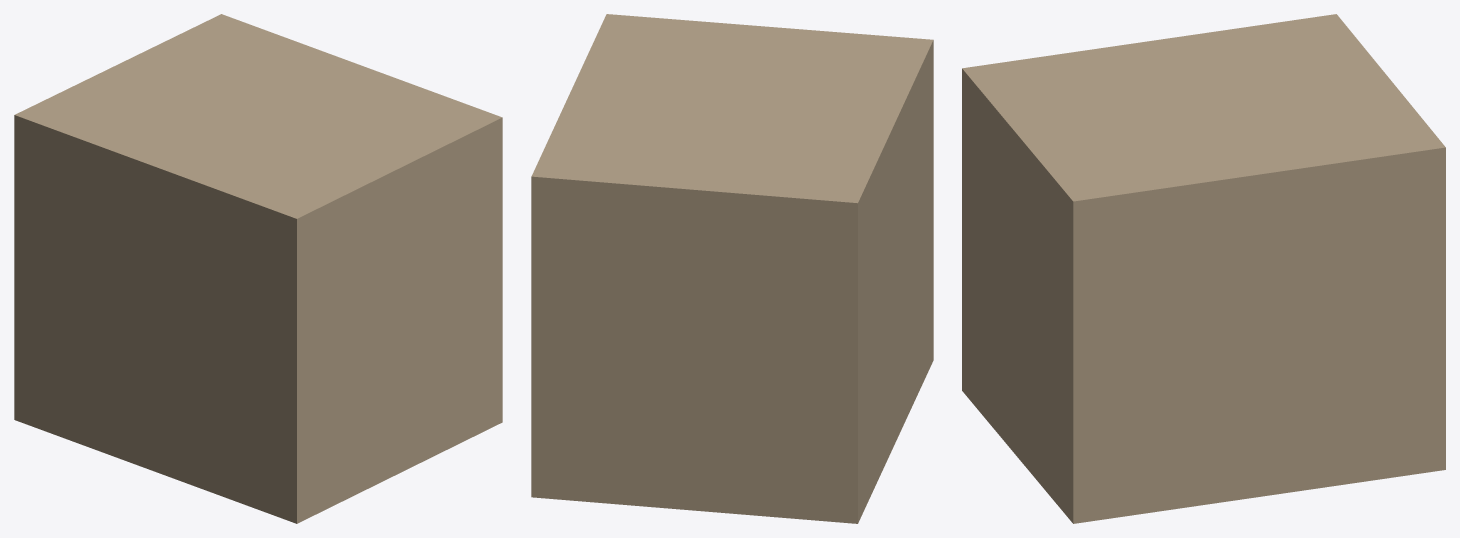
The model's file is bld_100469548.dae.
3 renders of one model, left to right at view 1: azimuth 30°, elevation 25°; view 2: azimuth 150°, elevation 25°; view 3: azimuth 270°, elevation 25°, orthographic. The views are drawn at different scales.
Visible parts, largest first — view 1: bld_100469548; view 2: bld_100469548; view 3: bld_100469548.
Boxes of the visible parts, x1=… form: bld_100469548: x1=14, y1=14, x2=502, y2=523; bld_100469548: x1=531, y1=14, x2=933, y2=523; bld_100469548: x1=962, y1=14, x2=1445, y2=523.
Bounding box in the file's own units: 9.98 × 10.88 × 8.
